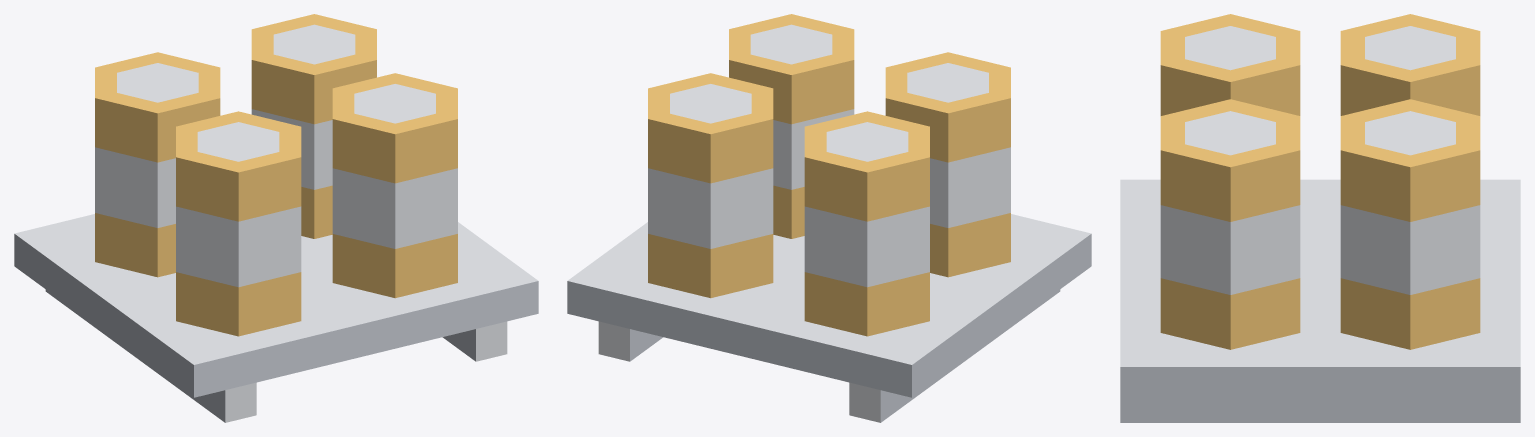
File: barrels.glb
3 views of the same model, side by side, from view 1: azimuth 30°, elevation 25°; view 2: azimuth 150°, elevation 25°; view 3: azimuth 270°, elevation 25° (orthographic). The views are drawn at different scales.
Parts seen in each view (by area): view 1: barrels; view 2: barrels; view 3: barrels.
Boxes of the visible parts, x1,y1,x2,y2 form: barrels: (14,14,538,422); barrels: (567,14,1091,422); barrels: (1120,14,1520,422).
Size of the model in its own units: 0.7722 by 0.4914 by 0.697.
